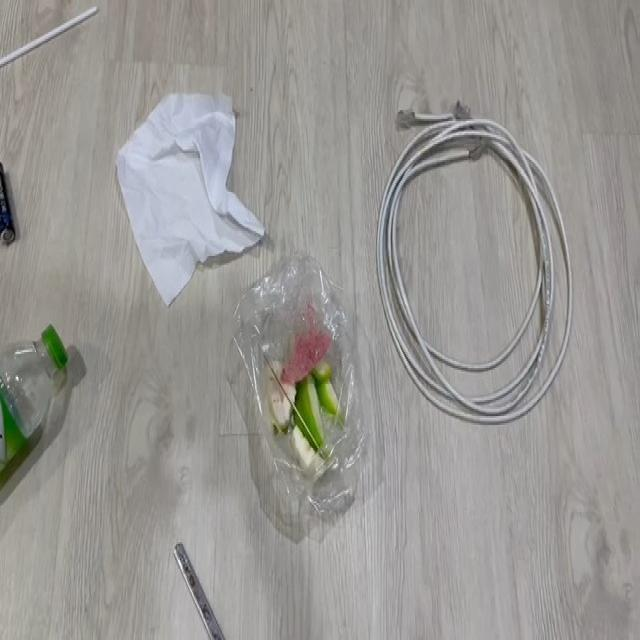Anorganik: (120, 70, 258, 294), (0, 342, 74, 520), (173, 531, 239, 640), (0, 22, 109, 87)
B3: (397, 116, 569, 418), (240, 281, 386, 520), (0, 154, 17, 251)
